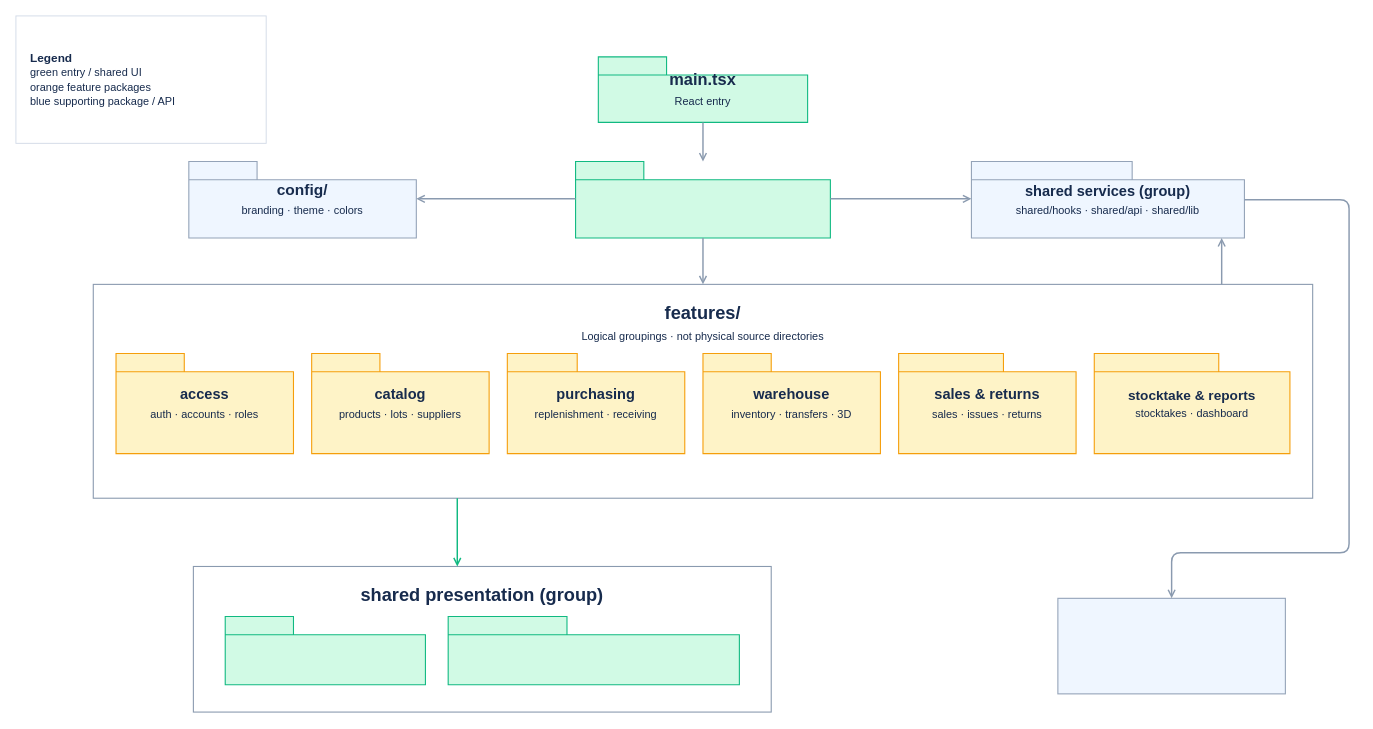
This 1373x729 diagram has some shape labels left out. Each missing label, with the centre of its shape:
"app/ App · routes · layout · store" goes at point (702, 199).
"Backend API HTTP JSON · /api" goes at point (1171, 645).
"shared components shared/components" goes at point (593, 650).
"ui shared/ui" goes at point (325, 650).
